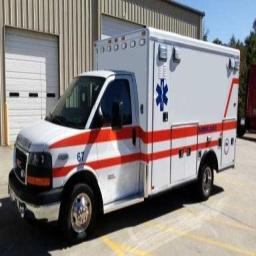ambulance: (9, 28, 239, 240), (237, 65, 255, 136)
